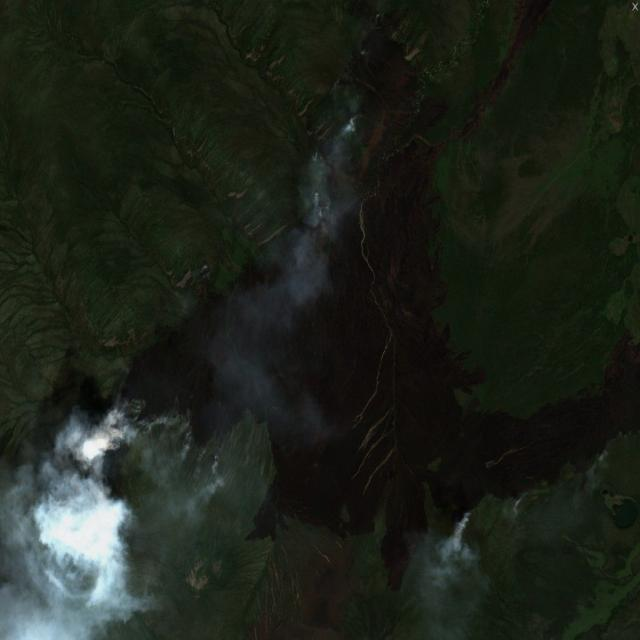fire: (79, 371, 191, 488), (314, 94, 371, 220)
